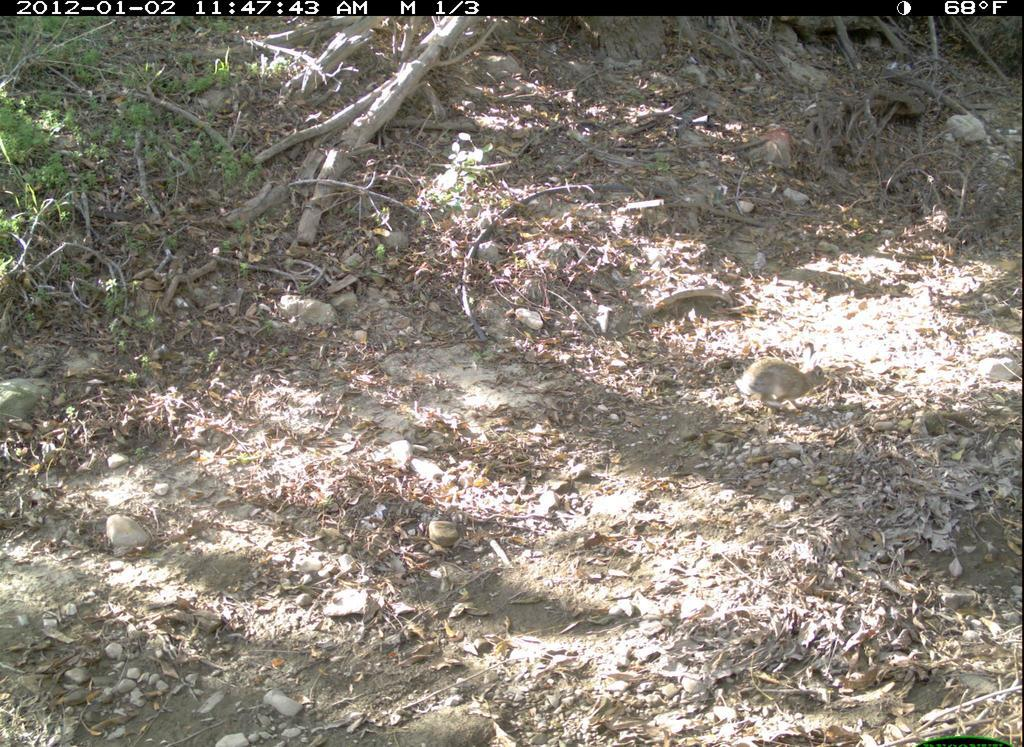rabbit: (739, 349, 833, 413)
